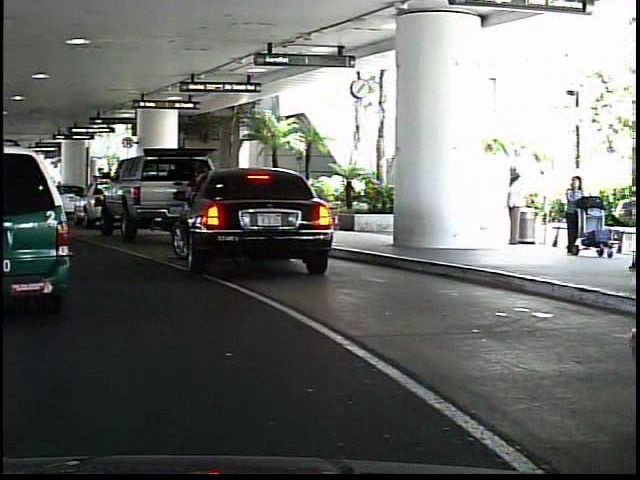person: (558, 169, 588, 261)
